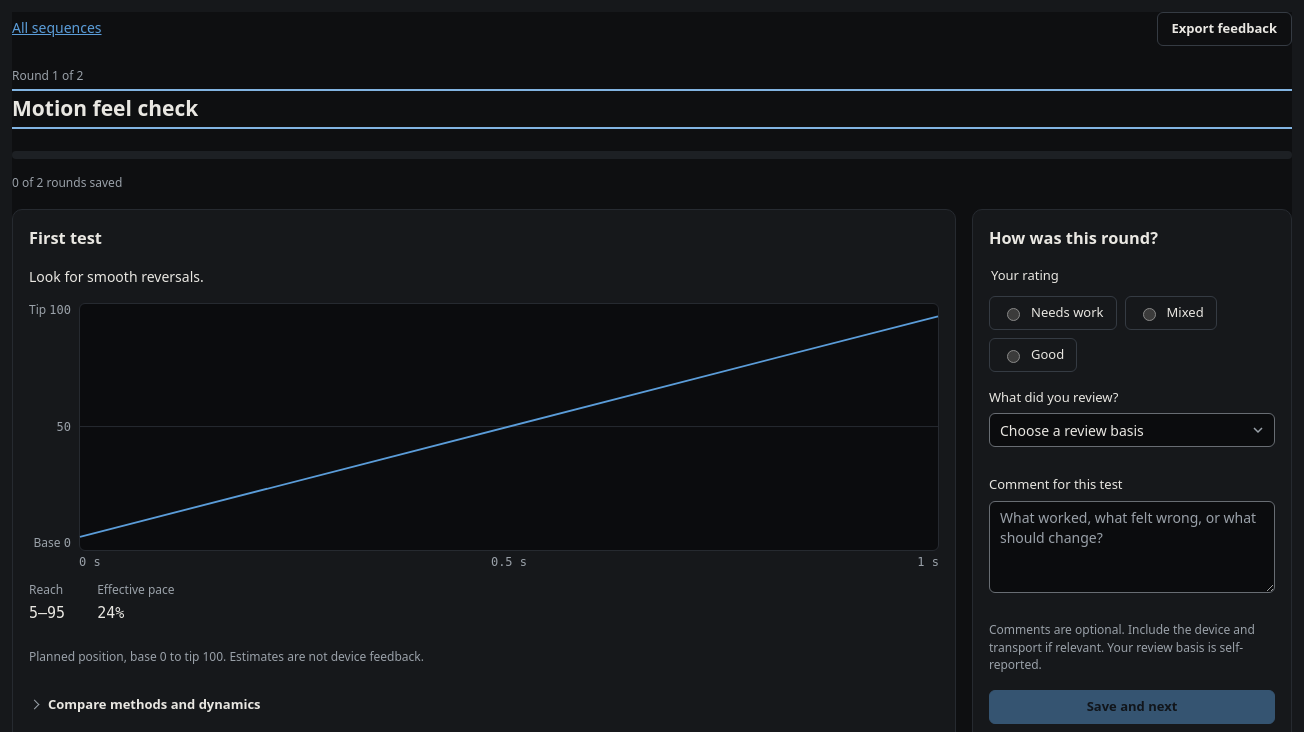
Test: guided Lab test sequences › retains the user's answer when saving fails
Expected: the heading "First test" is shown, [29,227,102,249]
Click the radio button labelled "Mixed". click: (1149, 314)
box: [1142,308,1156,321]
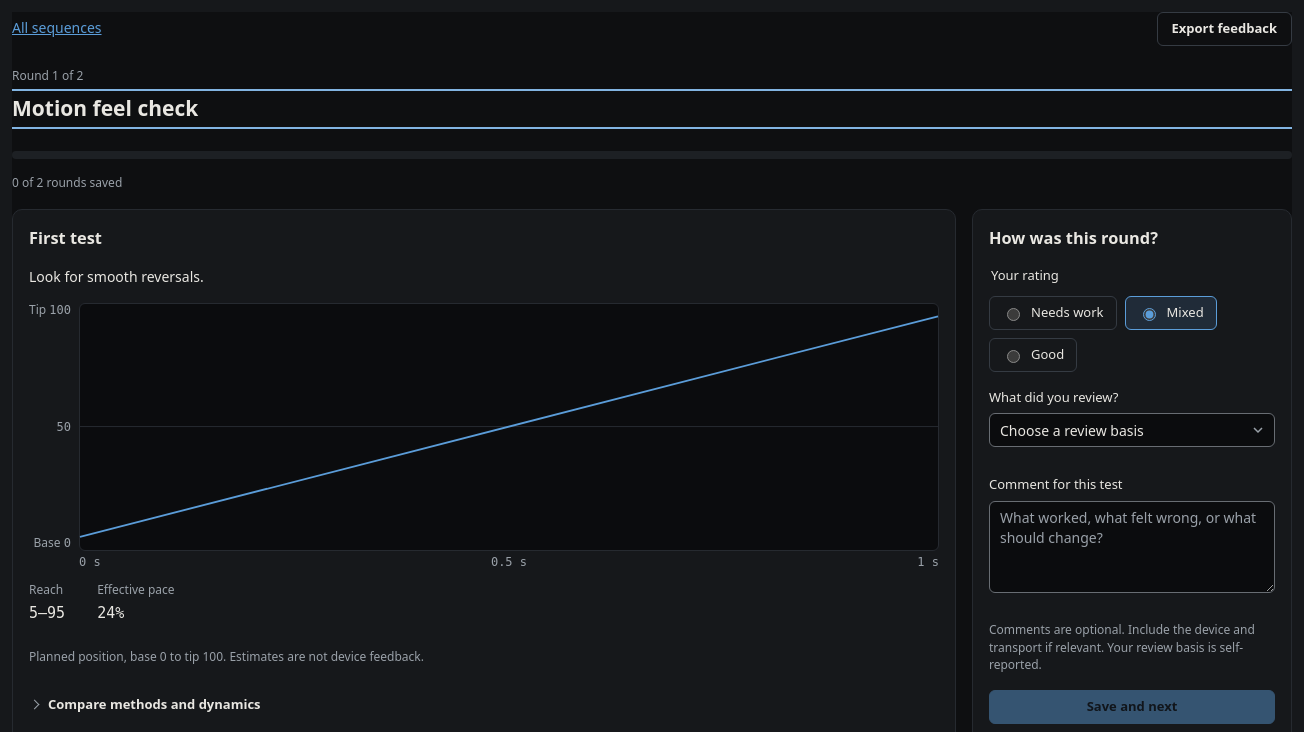
Select "Visual preview" in the dropdown labelled "What did you review?". click: (1132, 430)
box: [989,414,1275,448]
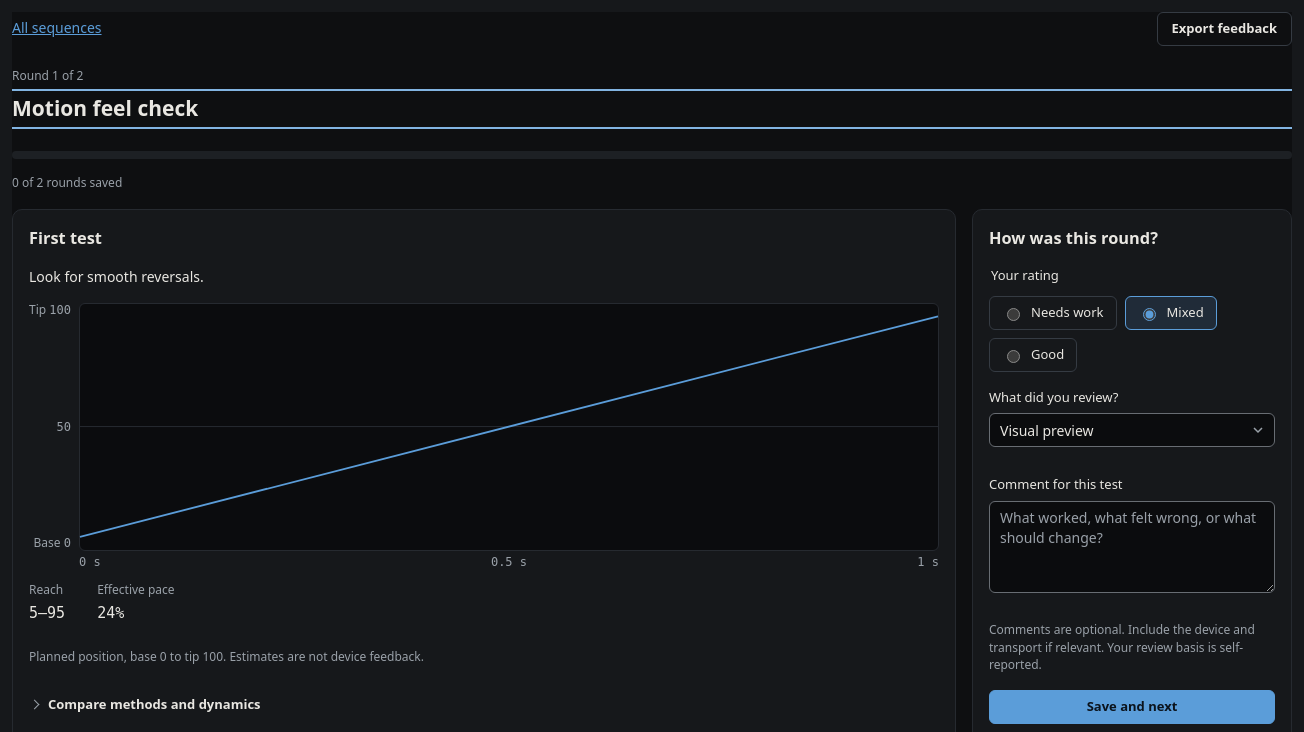
Type "The reversal looks abrupt." into the text box labelled "Comment for this test". click: (1132, 547)
box: [989,501,1275,593]
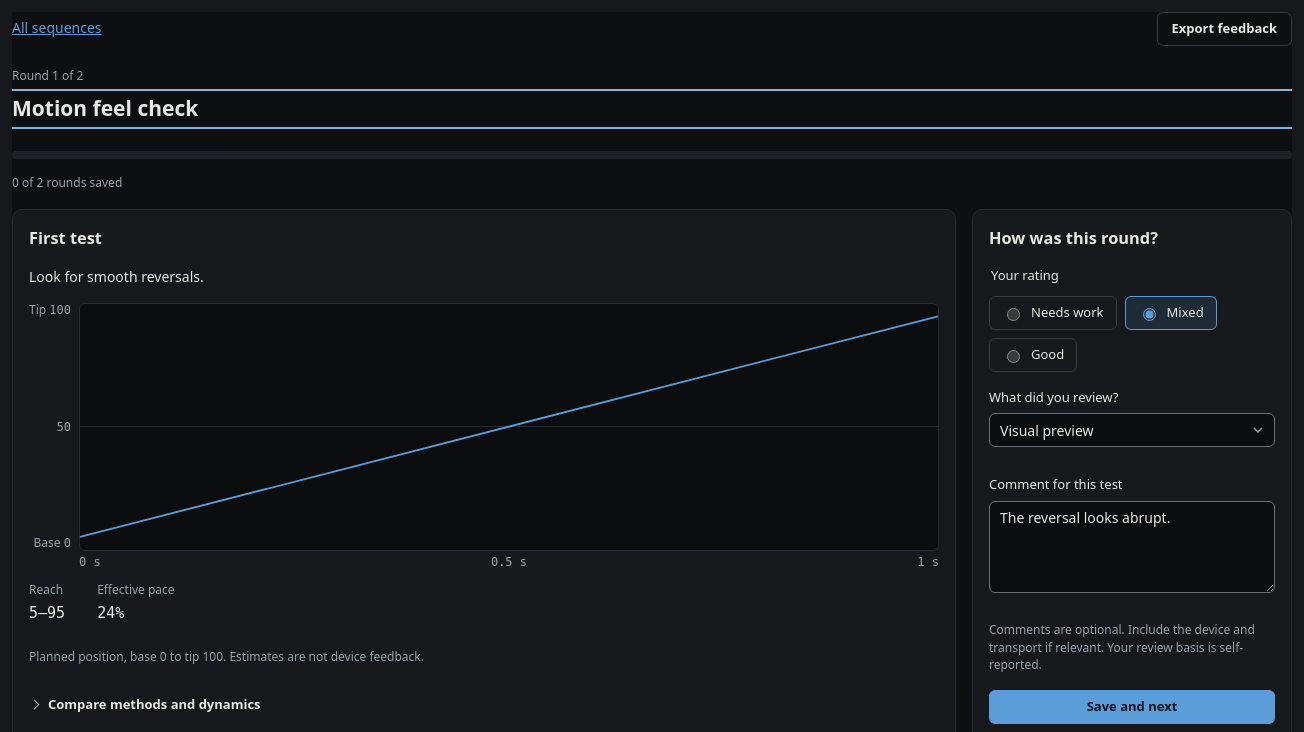
Click the button "Save and next". click: (1132, 706)
box: [989,690,1275,724]
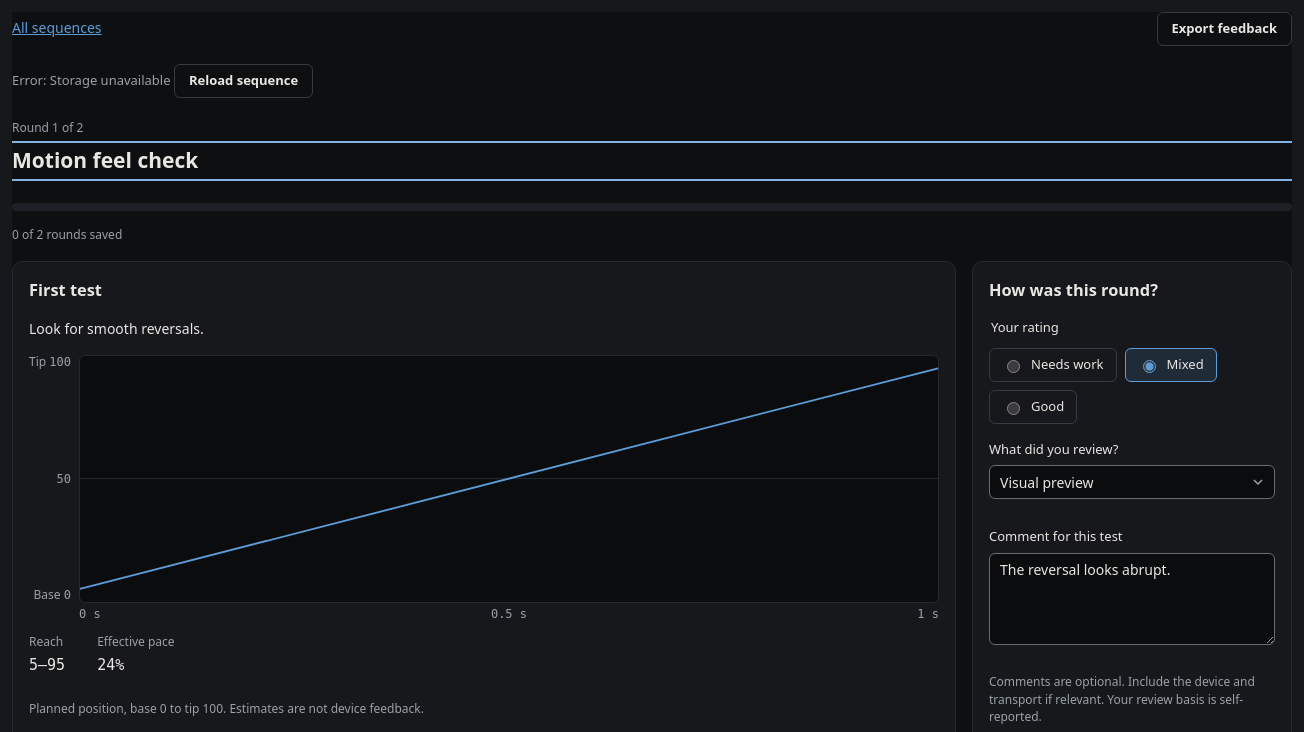
Expected: the radio button labelled "Mixed" is checked, [1142,360,1156,373]
Expected: the message "Error: Storage unavailable Reload sequence" is shown, [12,64,313,98]
